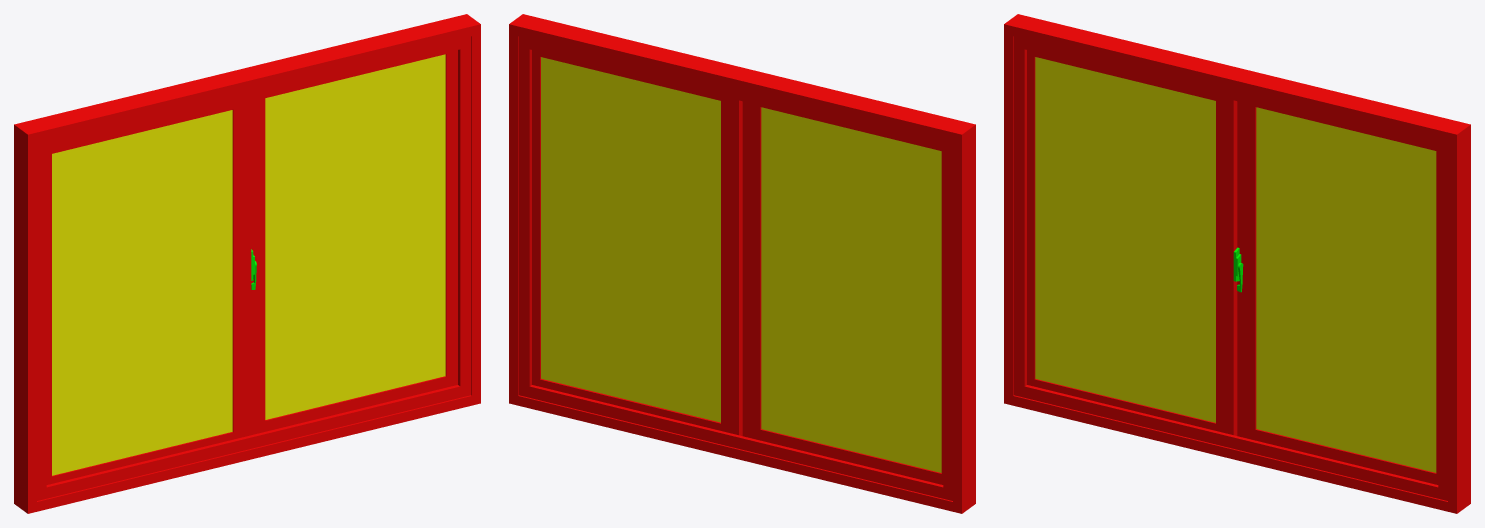
File: window_slider_60x48.glb
3 renders of one model, left to right at view 1: azimuth 30°, elevation 25°; view 2: azimuth 150°, elevation 25°; view 3: azimuth 330°, elevation 25°, orthographic.
Parts seen in each view (by area): view 1: window_slider_60x48; view 2: window_slider_60x48; view 3: window_slider_60x48.
Boxes of the visible parts, box(x1,y1,x2,y2) form: window_slider_60x48: box(14, 14, 480, 513); window_slider_60x48: box(509, 14, 975, 513); window_slider_60x48: box(1004, 14, 1470, 513).
Bounding box in the file's own units: 1.52 × 1.22 × 0.0812.
